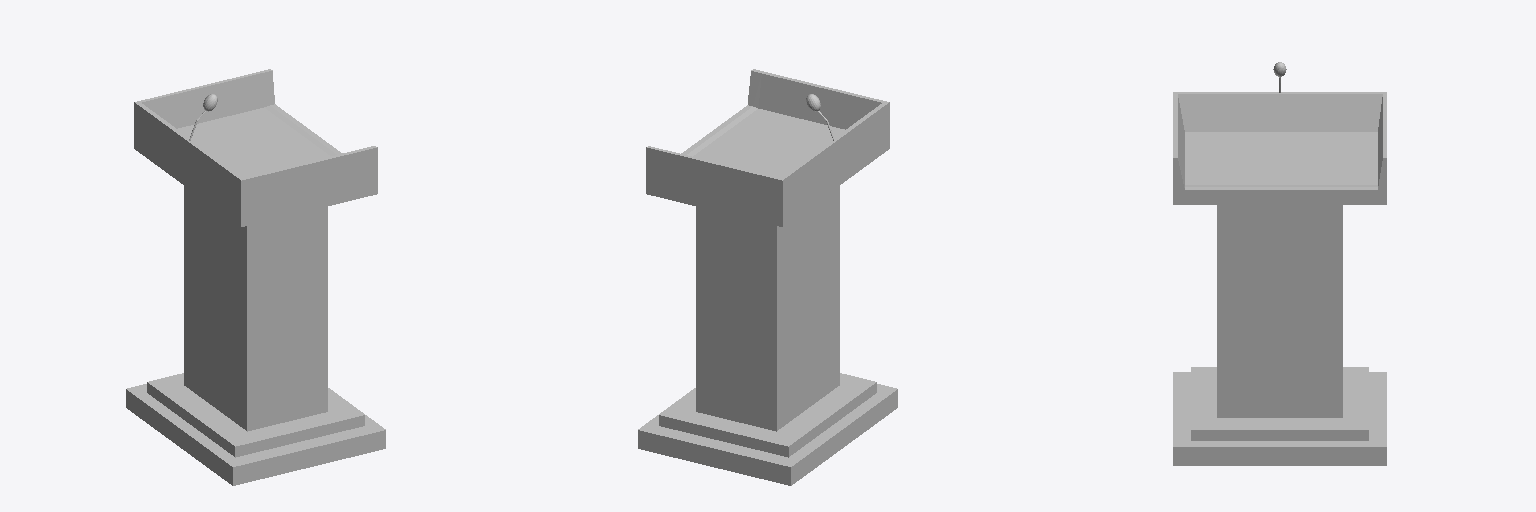
The model's file is stand.obj.
3 renders of one model, left to right at view 1: azimuth 30°, elevation 25°; view 2: azimuth 150°, elevation 25°; view 3: azimuth 270°, elevation 25°, orthographic.
Parts seen in each view (by area): view 1: polySurface1; view 2: polySurface1; view 3: polySurface1.
Boxes of the visible parts, box(x1,y1,x2,y2) form: polySurface1: box(126, 69, 385, 485); polySurface1: box(638, 69, 897, 485); polySurface1: box(1173, 62, 1386, 465).
Size of the model in its own units: 1.35 by 2.89 by 1.63.